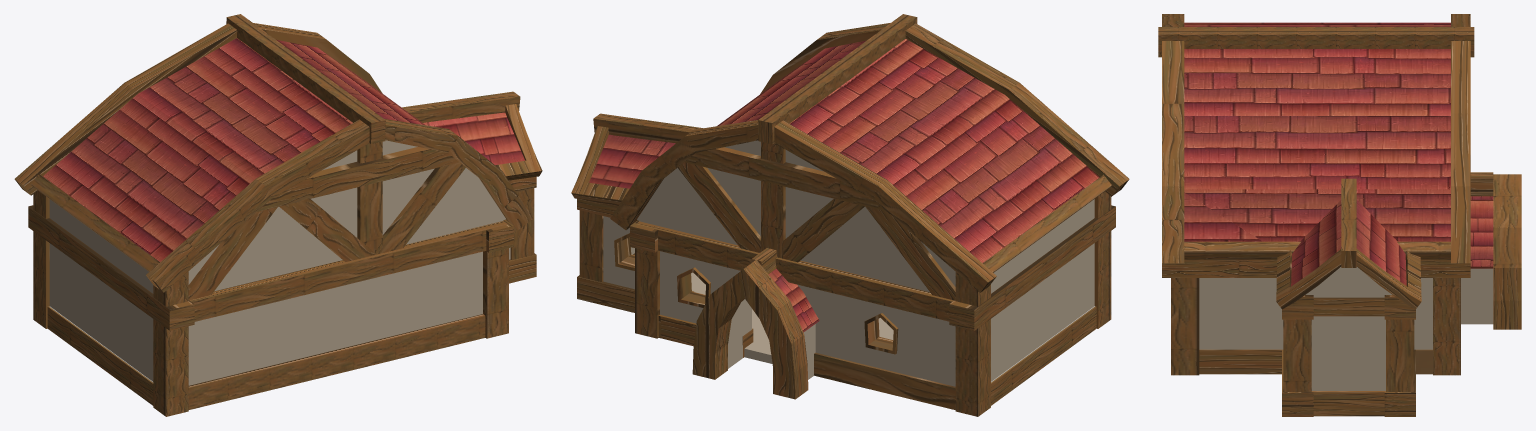
The model's file is crystal woods house.fbx.
3 views of the same model, side by side, from view 1: azimuth 30°, elevation 25°; view 2: azimuth 150°, elevation 25°; view 3: azimuth 270°, elevation 25° (orthographic). The views are drawn at different scales.
Visible parts, largest first — view 1: Cube.220, Cube.196, Cube.192, Cube.229, Cube.228, Cube.237, Cube.197, Cube.224, Cube.227, Cube.188, Cube.239, Cube.193 (+12 smaller); view 2: Cube.220, Cube.191, Cube.195, Cube.228, Cube.229, Cube.197, Cube.224, Cube.236, Cube.226, Cube.185, Cube.223, Cube.193 (+18 smaller); view 3: Cube.220, Cube.224, Cube.227, Cube.191, Cube.226, Cube.198, Cube.186, Cube.206, Cube.194, Cube.189, Cube.187, Cube.205 (+11 smaller).
Boxes of the visible parts, x1,y1,x2,y2 form: Cube.220: (43,38,524,385); Cube.196: (190,221,507,321); Cube.192: (188,314,485,409); Cube.229: (146,119,369,292); Cube.228: (14,23,237,195); Cube.237: (257,147,459,211); Cube.197: (28,205,194,330); Cube.224: (226,14,385,144); Cube.227: (384,119,533,229); Cube.188: (153,271,188,416); Cube.239: (375,162,465,254); Cube.193: (47,306,153,405); Cube.220: (589,39,1099,386); Cube.191: (692,259,808,399); Cube.195: (636,221,953,321); Cube.228: (774,120,996,292); Cube.229: (905,23,1129,196); Cube.197: (949,205,1115,330); Cube.224: (758,14,917,144); Cube.236: (684,147,886,211); Cube.226: (610,120,758,229); Cube.185: (955,272,990,416); Cube.223: (814,352,955,409); Cube.193: (991,306,1096,405); Cube.220: (1184,22,1493,390); Cube.224: (1158,27,1474,57); Cube.227: (1162,41,1184,263); Cube.191: (1493,174,1521,329); Cube.226: (1451,41,1470,263); Cube.198: (1162,259,1470,277); Cube.186: (1171,278,1199,375); Cube.206: (1433,278,1460,375); Cube.194: (1199,349,1281,374); Cube.189: (1283,295,1311,391); Cube.187: (1386,295,1414,391); Cube.205: (1184,241,1300,259).
Bounding box in the file's own units: 3988 × 2126 × 2574.
